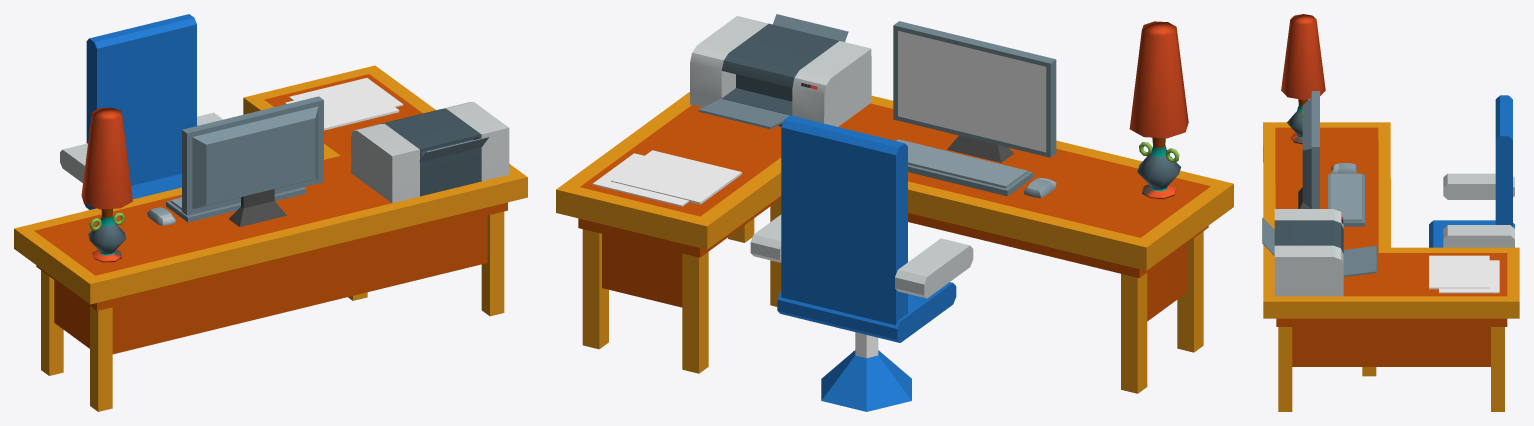
Rendered from Work Table and Chair lv3.fbx.
3 views of the same model, side by side, from view 1: azimuth 30°, elevation 25°; view 2: azimuth 150°, elevation 25°; view 3: azimuth 270°, elevation 25° (orthographic). The views are drawn at different scales.
Visible parts, largest first — view 1: Work_Table_and_Chair_lv3; view 2: Work_Table_and_Chair_lv3; view 3: Work_Table_and_Chair_lv3.
Boxes of the visible parts, x1,y1,x2,y2 form: Work_Table_and_Chair_lv3: (14, 14, 527, 411); Work_Table_and_Chair_lv3: (556, 14, 1233, 411); Work_Table_and_Chair_lv3: (1262, 14, 1519, 411).
Size of the model in its own units: 362 by 222 by 220.
